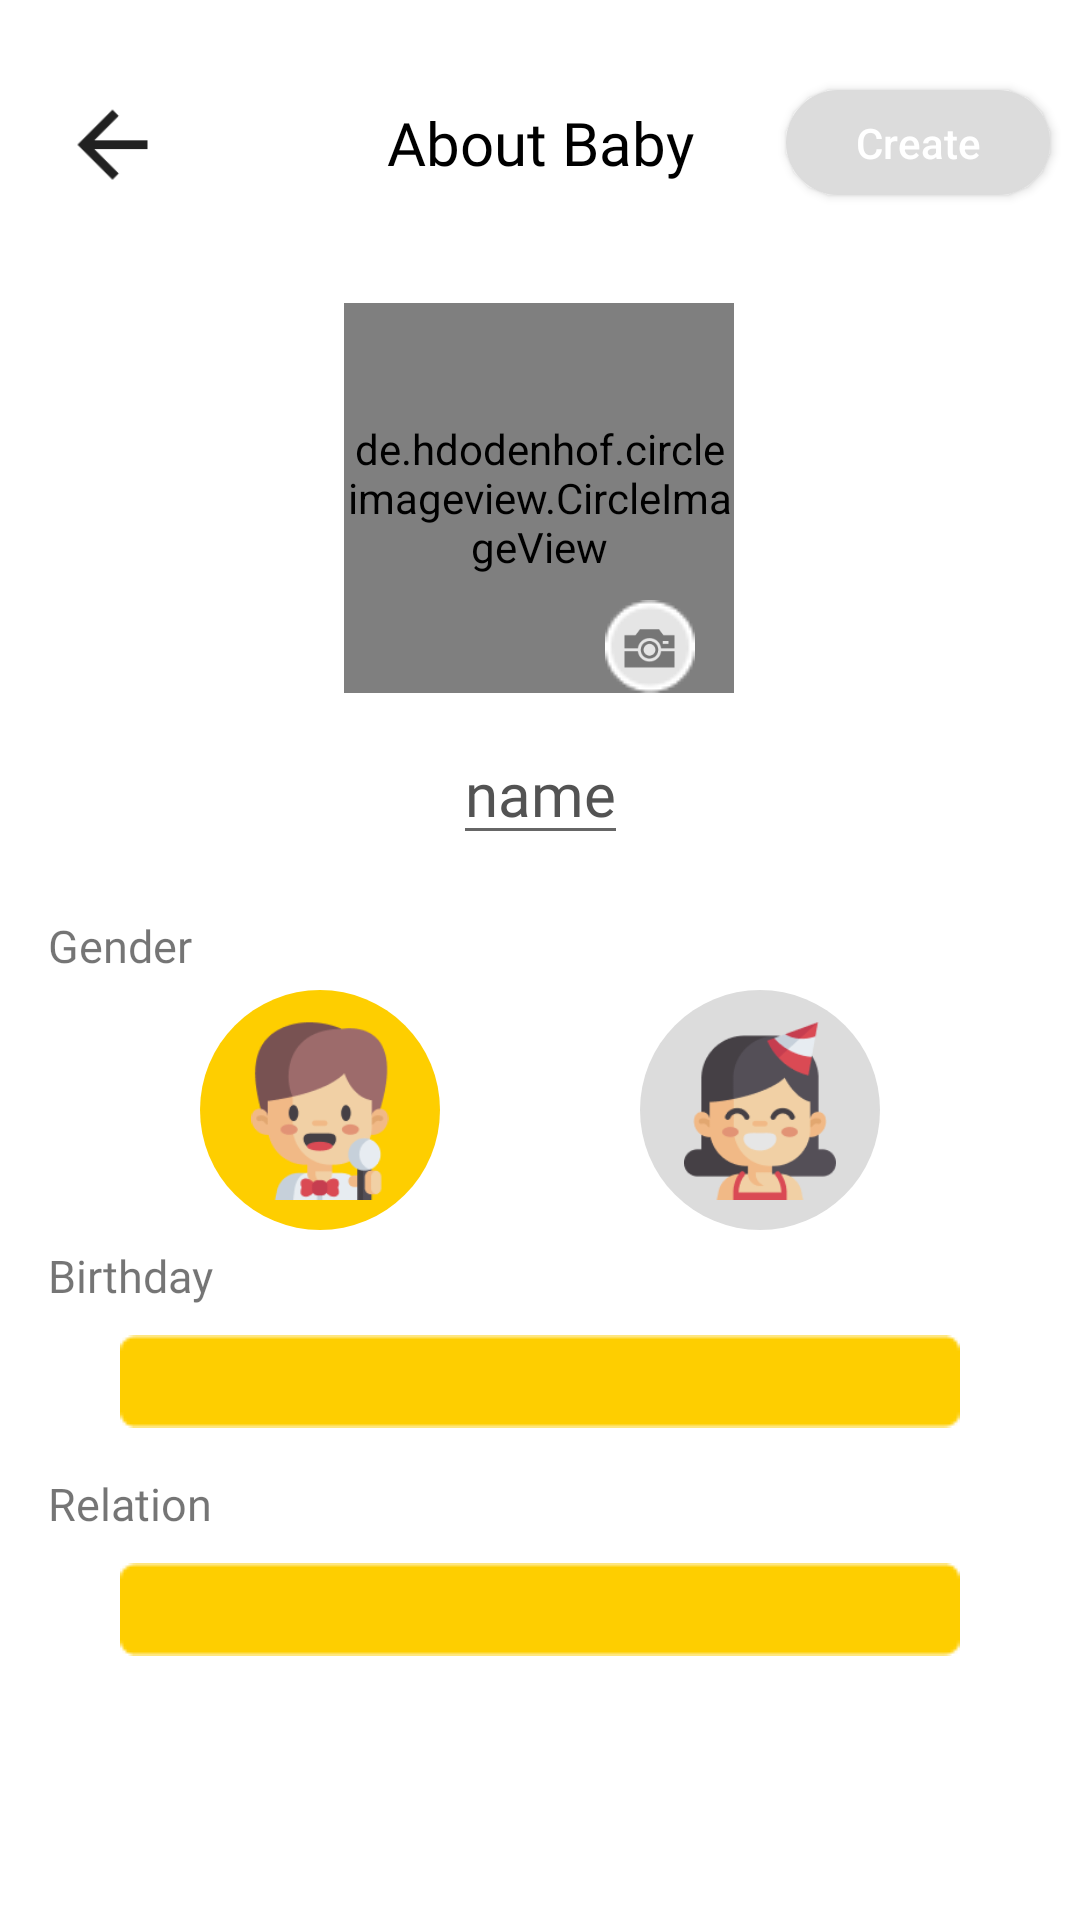

Icons on this 1080px x 1920px Android screen, each with the point to tap as point (x, y):
back home: point (112, 144)
boy: point (320, 1110)
camera: point (649, 646)
girl: point (760, 1110)
